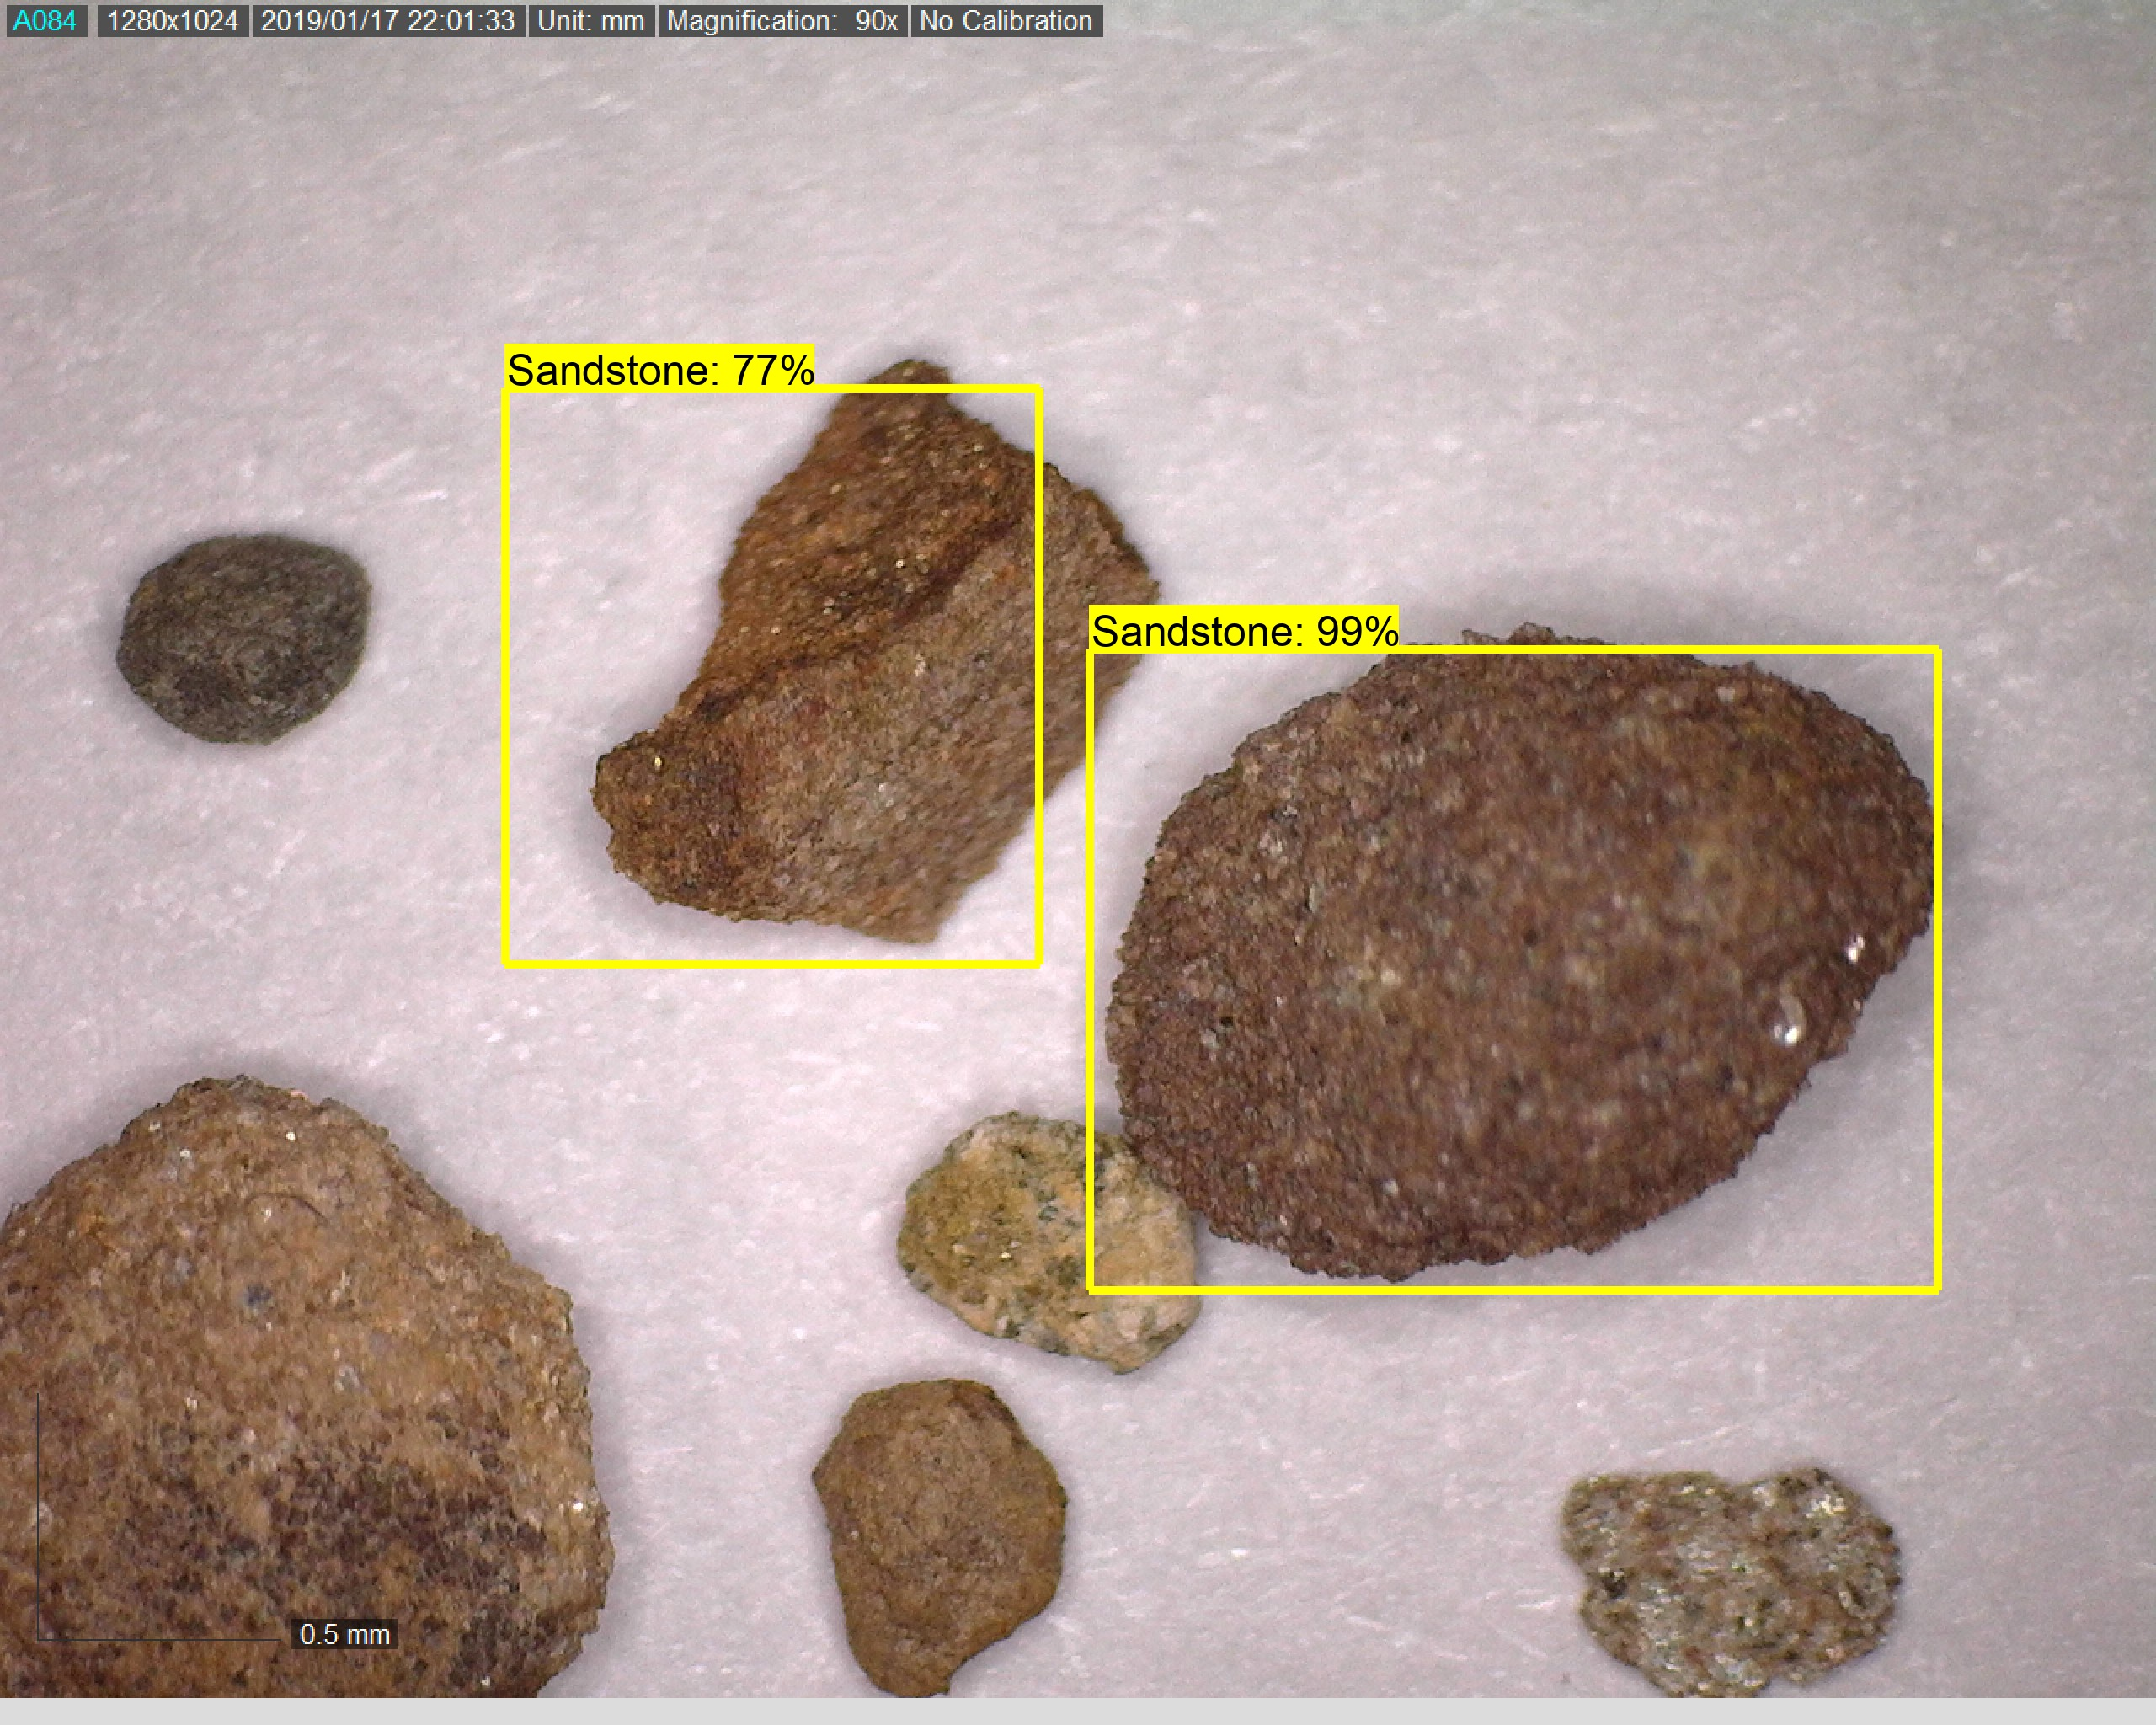Sandstone: (1107, 621, 1948, 1290), (9, 1075, 611, 1695), (574, 350, 1170, 949)
